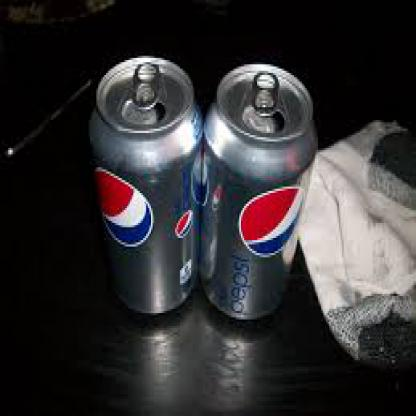METAL: (198, 60, 316, 320), (87, 52, 201, 317), (132, 58, 160, 105), (251, 71, 276, 116)
